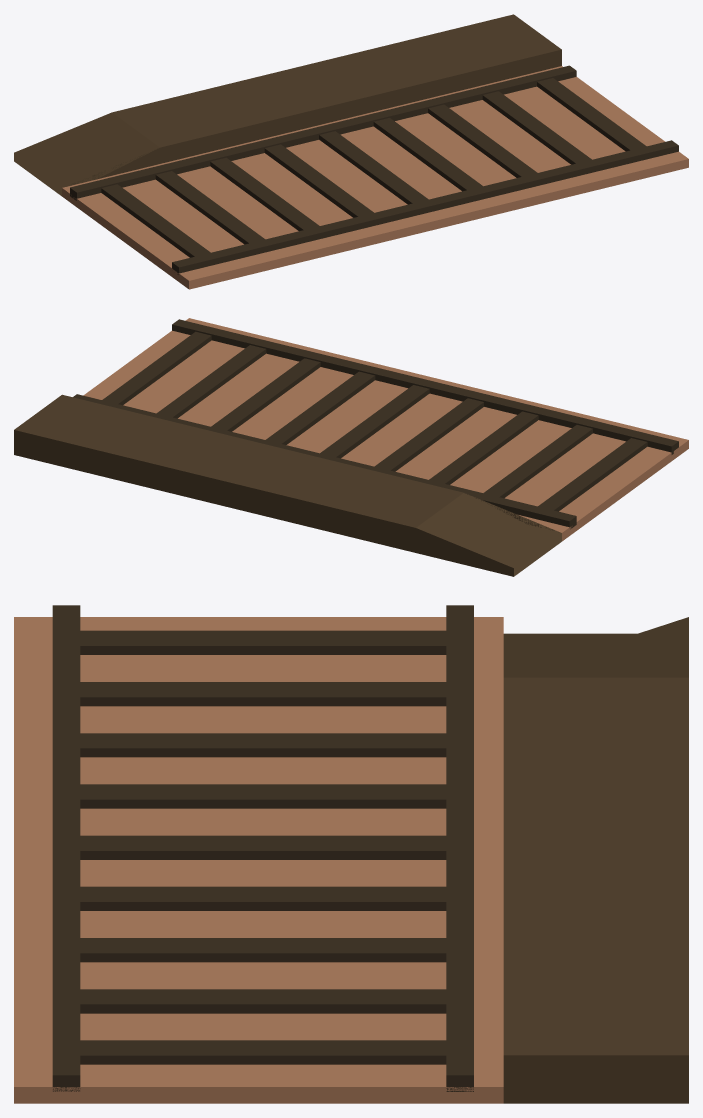
File: RailTrackTile_6.fbx
3 renders of one model, top to bottom at view 1: azimuth 30°, elevation 25°; view 2: azimuth 150°, elevation 25°; view 3: azimuth 270°, elevation 25°, orthographic. The views are drawn at different scales.
Parts seen in each view (by area): view 1: RailTrackTile_6; view 2: RailTrackTile_6; view 3: RailTrackTile_6.
Boxes of the visible parts, bbox=[...] form: RailTrackTile_6: bbox=[14, 14, 688, 289]; RailTrackTile_6: bbox=[14, 318, 688, 576]; RailTrackTile_6: bbox=[14, 605, 688, 1103].
Bounding box in the file's own units: 600 × 28.78 × 364.
